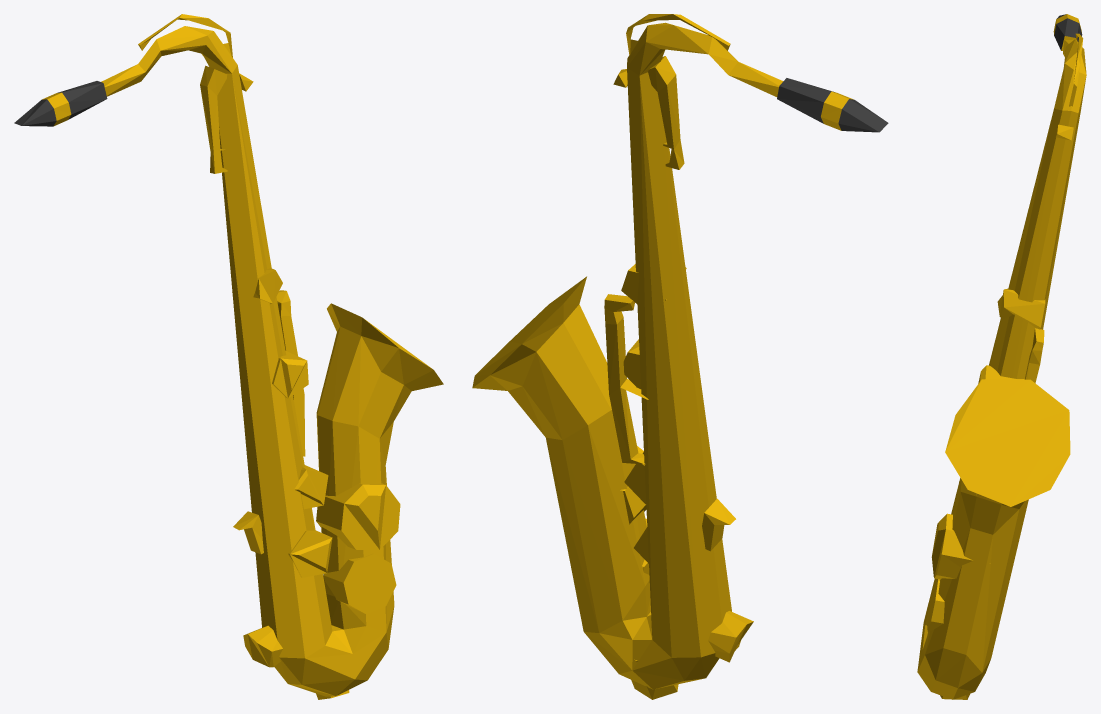
The model's file is Saxofon.fbx.
3 views of the same model, side by side, from view 1: azimuth 30°, elevation 25°; view 2: azimuth 150°, elevation 25°; view 3: azimuth 270°, elevation 25° (orthographic). The views are drawn at different scales.
Parts seen in each view (by area): view 1: Cylinder.072; view 2: Cylinder.072; view 3: Cylinder.072.
Boxes of the visible parts, x1=… form: Cylinder.072: x1=14, y1=14, x2=443, y2=699; Cylinder.072: x1=472, y1=14, x2=888, y2=699; Cylinder.072: x1=917, y1=14, x2=1086, y2=699.
Size of the model in its own units: 587 by 961 by 236.
